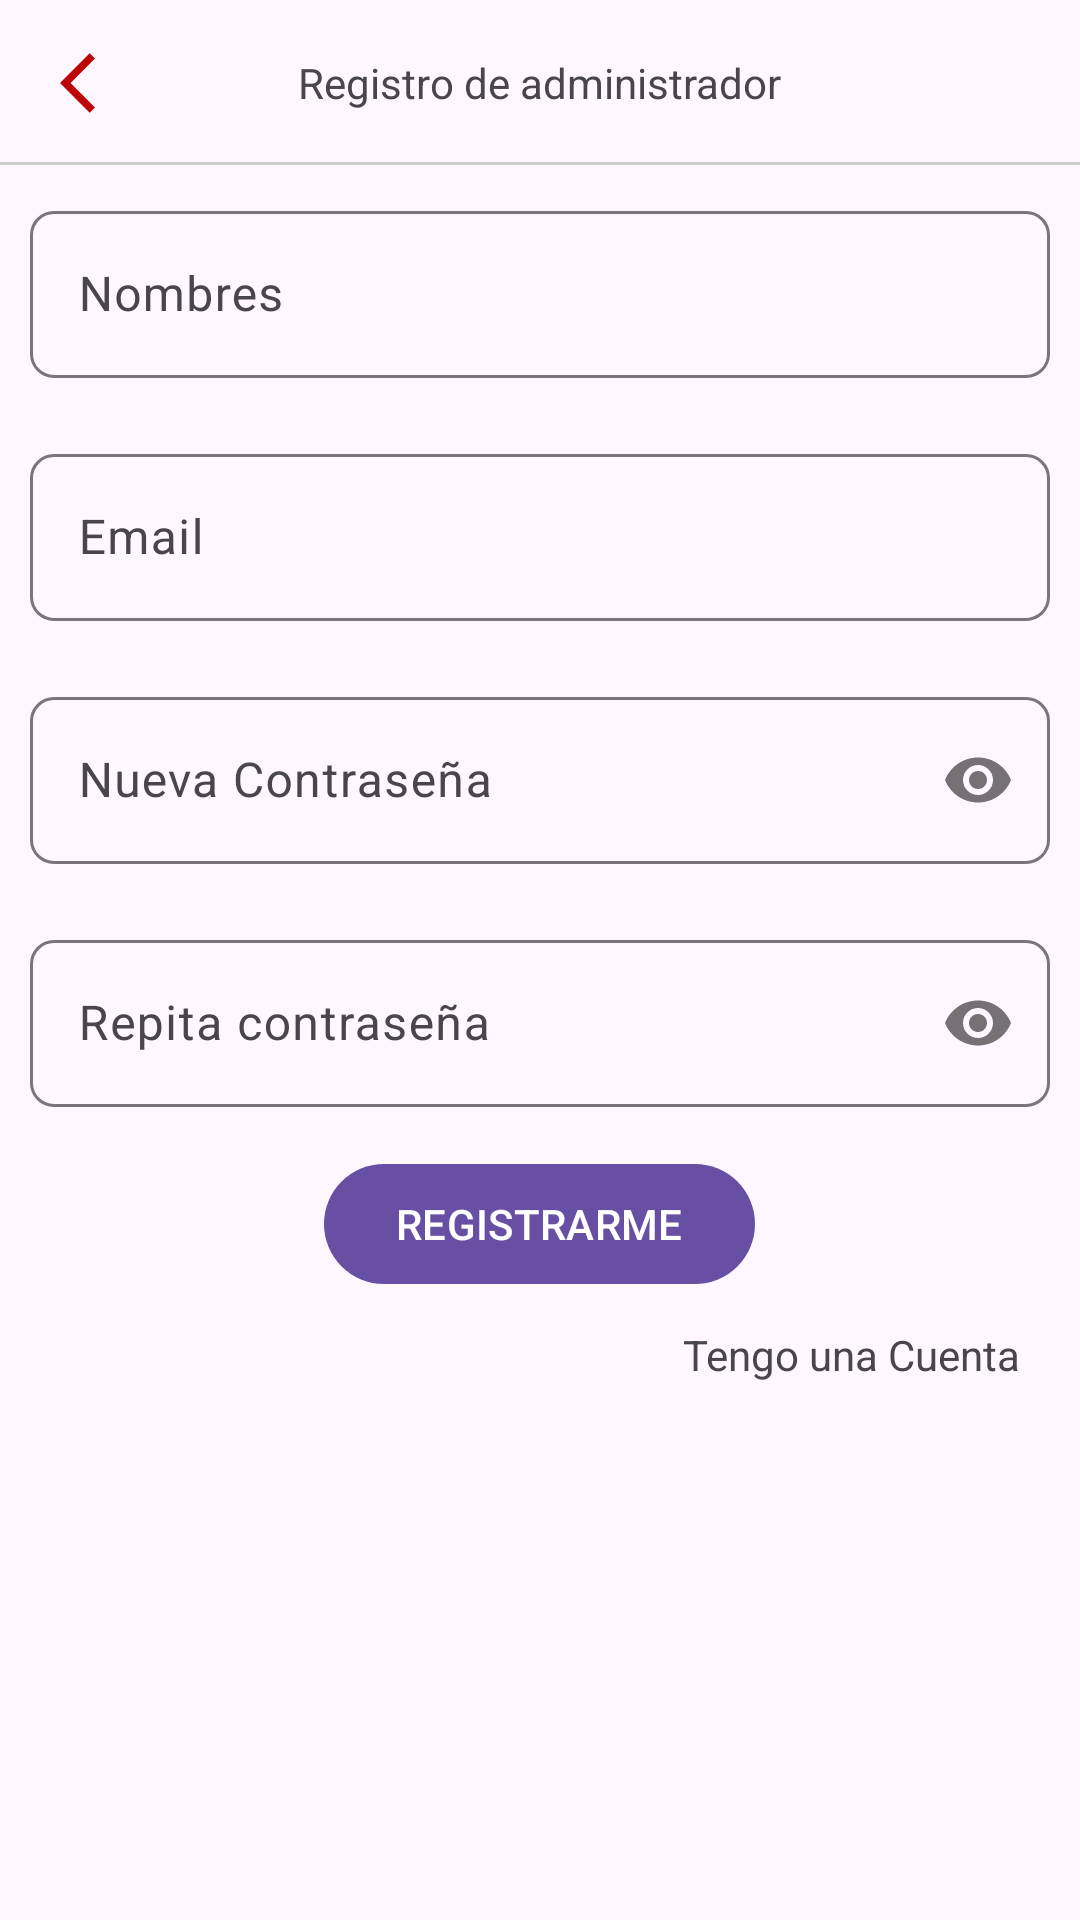

Icon bounding boxes for this 1080px x 1920px phone screenshot, format (x1, y1, x2, y2):
regresar: (60, 53, 95, 113)
